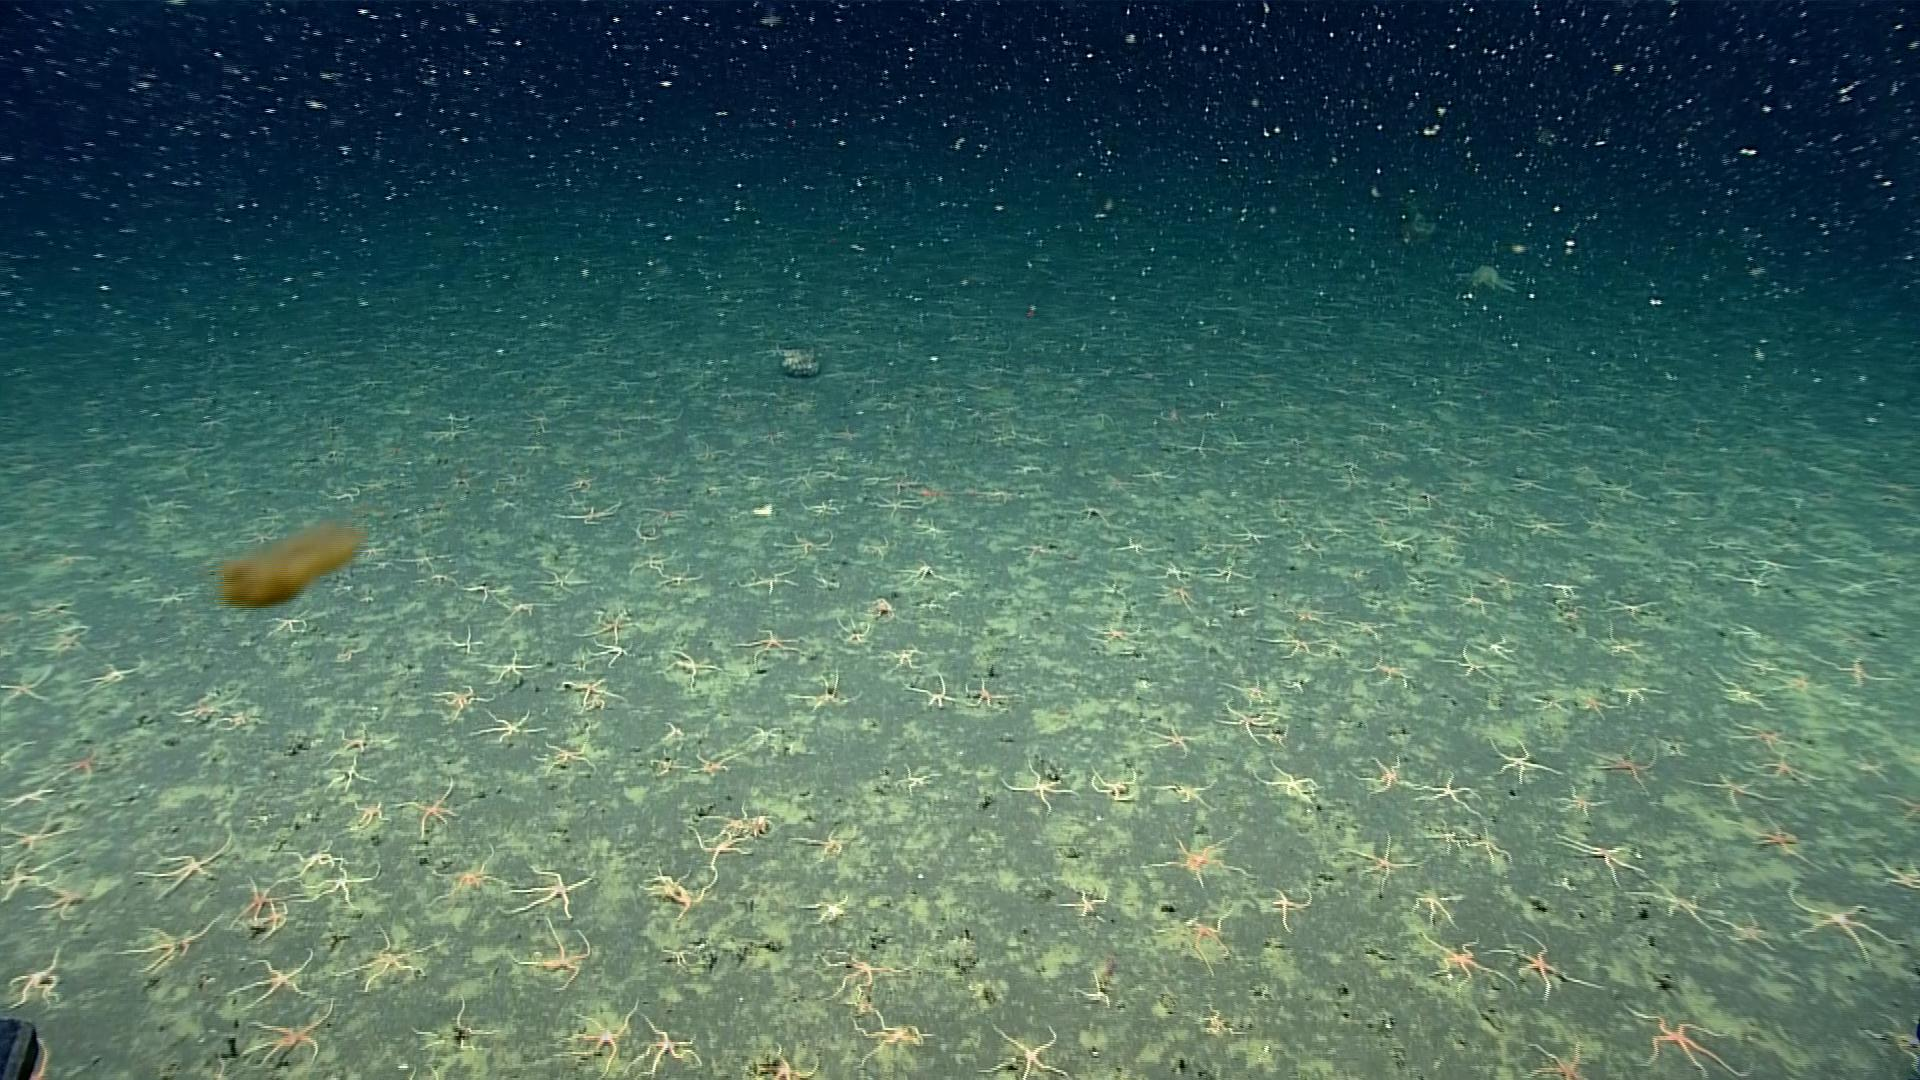brittle_sea_star: (1623, 1004, 1739, 1072), (1489, 931, 1605, 1000), (1784, 893, 1896, 963), (330, 927, 446, 993), (237, 998, 336, 1071), (135, 831, 233, 901), (116, 914, 224, 975), (554, 998, 638, 1075), (513, 918, 593, 994), (1733, 808, 1825, 872), (228, 947, 319, 1010), (1142, 836, 1249, 887), (976, 1022, 1071, 1079), (1418, 931, 1513, 988), (410, 996, 500, 1055), (1630, 876, 1724, 931), (808, 951, 903, 1005), (1168, 906, 1241, 976), (505, 861, 592, 919), (427, 844, 504, 907), (640, 860, 717, 922), (849, 1006, 934, 1063), (1556, 836, 1647, 887), (392, 774, 463, 839), (1000, 756, 1079, 814), (1340, 832, 1420, 889), (298, 862, 384, 911), (629, 1015, 700, 1073), (1687, 769, 1787, 810), (1480, 737, 1567, 783), (0, 853, 80, 902), (686, 815, 749, 874), (228, 876, 287, 938), (7, 947, 66, 1009), (789, 666, 861, 715), (1593, 744, 1659, 796), (1815, 649, 1895, 691), (1251, 760, 1320, 803), (469, 707, 542, 748), (1526, 1035, 1593, 1079), (1865, 1009, 1919, 1063), (284, 832, 342, 882), (1729, 715, 1804, 753), (1412, 771, 1478, 815), (1439, 644, 1509, 684), (0, 819, 83, 853), (1348, 756, 1415, 798), (1217, 698, 1276, 745), (479, 647, 549, 687), (559, 674, 624, 716), (733, 628, 804, 666), (534, 737, 600, 777), (1406, 886, 1469, 927), (30, 1018, 69, 1079), (426, 683, 493, 717), (1754, 750, 1816, 786), (790, 823, 845, 862), (655, 647, 715, 684), (1147, 720, 1203, 760), (1261, 626, 1327, 659), (798, 889, 852, 928), (732, 719, 794, 753), (1859, 781, 1919, 816), (0, 667, 57, 704), (1716, 914, 1774, 949), (715, 803, 774, 837), (903, 670, 955, 709), (1270, 887, 1315, 932), (1151, 775, 1215, 807), (1867, 855, 1919, 893), (1547, 786, 1607, 818), (26, 886, 84, 919), (963, 678, 1018, 712), (320, 756, 373, 791), (1225, 673, 1282, 705), (749, 1043, 800, 1079), (1054, 884, 1106, 918), (554, 501, 621, 527), (78, 662, 137, 691), (582, 608, 638, 638), (1472, 829, 1518, 866), (1598, 628, 1651, 659), (171, 692, 224, 724), (1088, 767, 1138, 800), (890, 761, 936, 796), (1077, 621, 1137, 649), (327, 723, 380, 753), (1427, 820, 1472, 856), (775, 531, 836, 556), (0, 786, 63, 810), (744, 567, 798, 595), (1448, 584, 1499, 613), (583, 620, 633, 649), (351, 795, 388, 832), (1151, 584, 1203, 611), (1364, 651, 1404, 684), (1077, 971, 1112, 1009), (496, 596, 550, 620), (1150, 556, 1196, 584), (1613, 683, 1672, 704), (882, 644, 926, 670), (65, 750, 104, 778), (1610, 596, 1659, 618), (1851, 753, 1888, 782), (216, 707, 264, 729), (265, 612, 307, 637), (832, 620, 872, 646), (1726, 574, 1772, 596), (621, 553, 667, 575), (1228, 524, 1271, 547), (1481, 632, 1518, 659), (390, 1059, 442, 1079), (688, 754, 733, 777), (1114, 533, 1154, 558), (903, 559, 940, 585), (462, 580, 508, 601), (1575, 695, 1611, 720), (868, 599, 903, 624), (857, 1058, 899, 1079), (1209, 560, 1249, 583), (451, 628, 480, 655), (152, 583, 198, 600), (907, 518, 948, 537), (1374, 534, 1416, 550), (657, 720, 684, 742), (651, 754, 680, 774)
